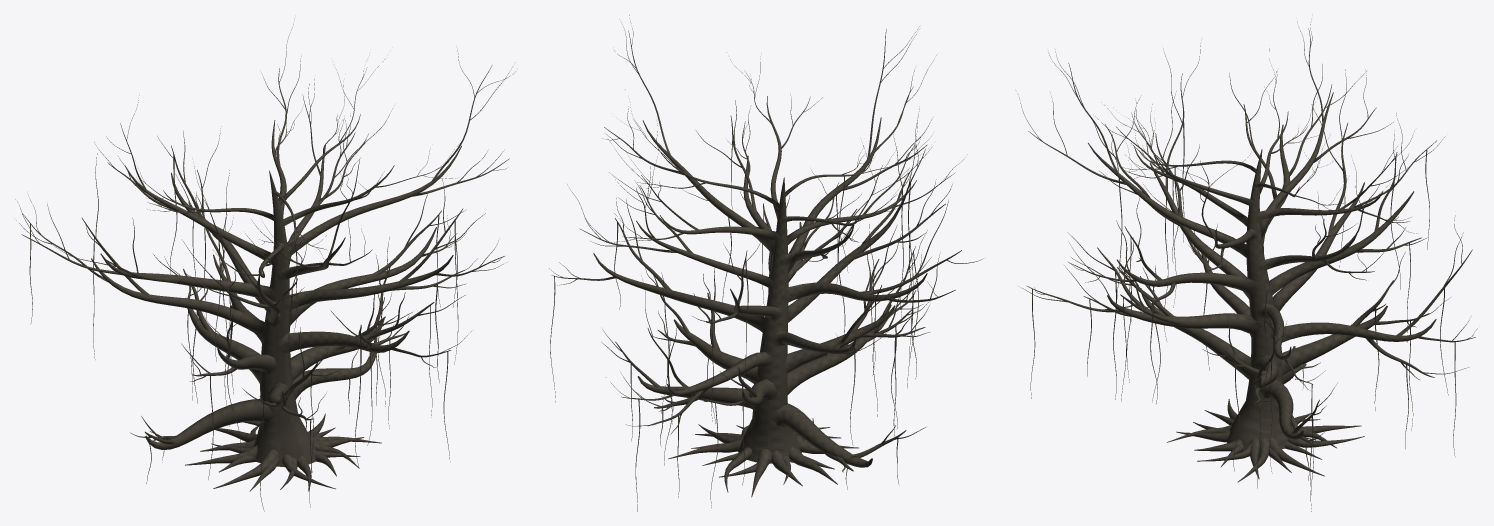
The model's file is tree.gltf.
3 renders of one model, left to right at view 1: azimuth 30°, elevation 25°; view 2: azimuth 150°, elevation 25°; view 3: azimuth 270°, elevation 25°, orthographic. The views are drawn at different scales.
Parts seen in each view (by area): view 1: Tree_LOD0; view 2: Tree_LOD0; view 3: Tree_LOD0.
Boxes of the visible parts, left/top/right/bottom form: Tree_LOD0: left=15, top=18, right=515, bottom=511; Tree_LOD0: left=549, top=15, right=983, bottom=511; Tree_LOD0: left=1017, top=21, right=1477, bottom=511.
Size of the model in its own units: 158 by 131 by 149.
Materials: 1 (1 with a texture image).
